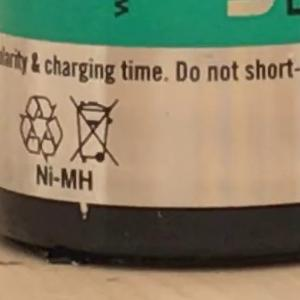NI-MH: (27, 160, 102, 195)
